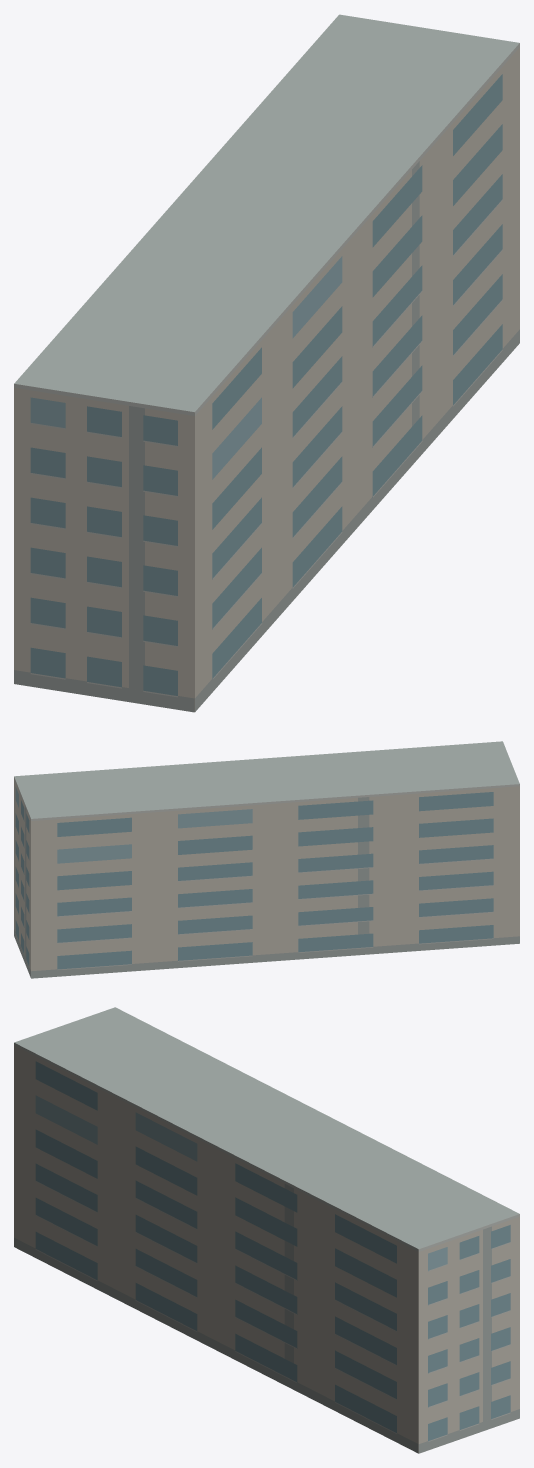
The model's file is residential-158f4f96-45a0-4bac-8733-310f7a067b3b.glb.
3 views of the same model, one above another, from view 1: azimuth 30°, elevation 25°; view 2: azimuth 150°, elevation 25°; view 3: azimuth 270°, elevation 25° (orthographic). The views are drawn at different scales.
Parts seen in each view (by area): view 1: residential-158f4f96-45a0-4bac-8733-310f7a067b3b.tmp; view 2: residential-158f4f96-45a0-4bac-8733-310f7a067b3b.tmp; view 3: residential-158f4f96-45a0-4bac-8733-310f7a067b3b.tmp.
Part boxes in pixels (x1=…): residential-158f4f96-45a0-4bac-8733-310f7a067b3b.tmp: x1=14, y1=14, x2=519, y2=712; residential-158f4f96-45a0-4bac-8733-310f7a067b3b.tmp: x1=14, y1=741, x2=519, y2=978; residential-158f4f96-45a0-4bac-8733-310f7a067b3b.tmp: x1=14, y1=1007, x2=519, y2=1453.
Size of the model in its own units: 46.48 by 18.3 by 41.04.
